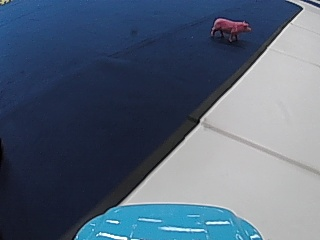pig: (209, 14, 251, 43)
